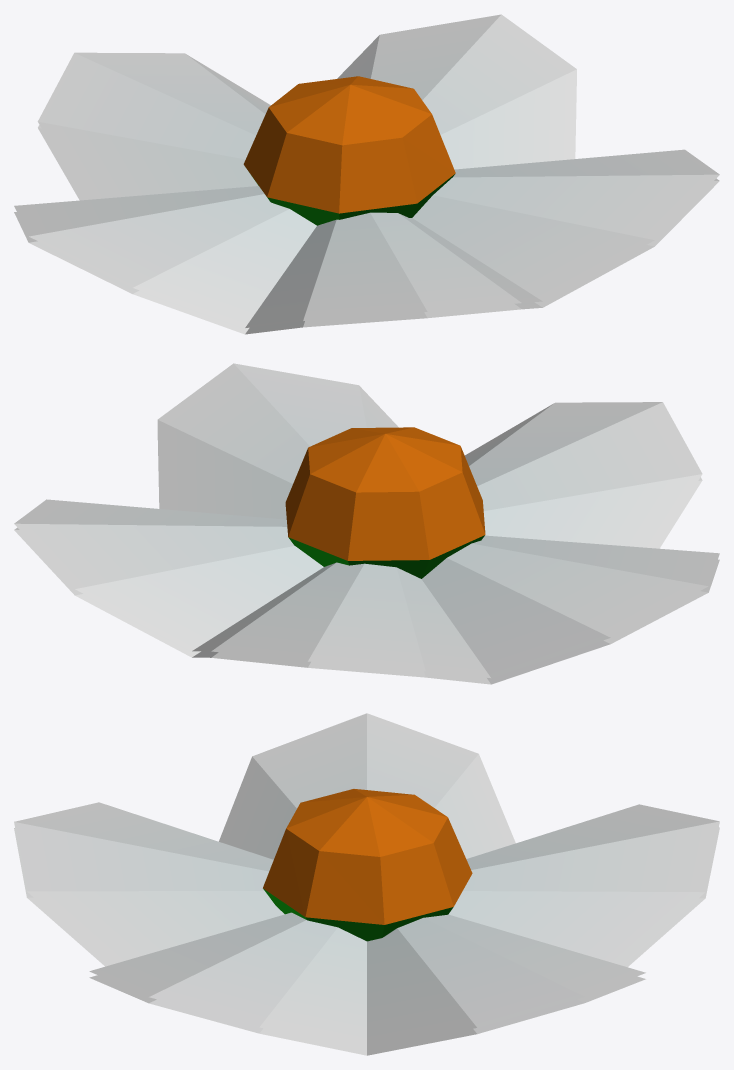
File: flower.dae
3 renders of one model, top to bottom at view 1: azimuth 30°, elevation 25°; view 2: azimuth 150°, elevation 25°; view 3: azimuth 270°, elevation 25°, orthographic.
Parts seen in each view (by area): view 1: m0; view 2: m0; view 3: m0.
Boxes of the visible parts, left/top/right/bottom form: m0: left=14, top=14, right=719, bottom=334; m0: left=14, top=363, right=719, bottom=684; m0: left=14, top=713, right=719, bottom=1055.
Bounding box in the file's own units: 8.31 × 3.05 × 8.43.
